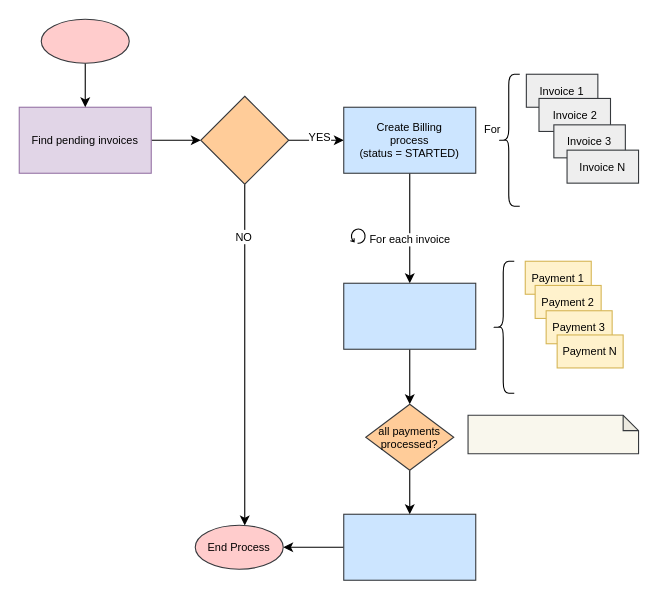
Image size: 658x600. Some labels were removed from this diagram. The centre of each missing label's shape, as x and y in pixels:
"Any found" belongs at [244,139].
"Billing Process Triggered" belongs at [84,40].
"Complete Billing" belongs at [409,546].
"PROCESSED = (COMPLETED or CANCELLED)" belongs at [553,434].
"Request payment for each invoice" belongs at [409,315].
